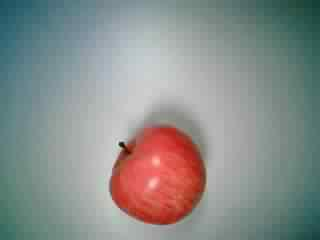apple: (106, 120, 212, 224)
